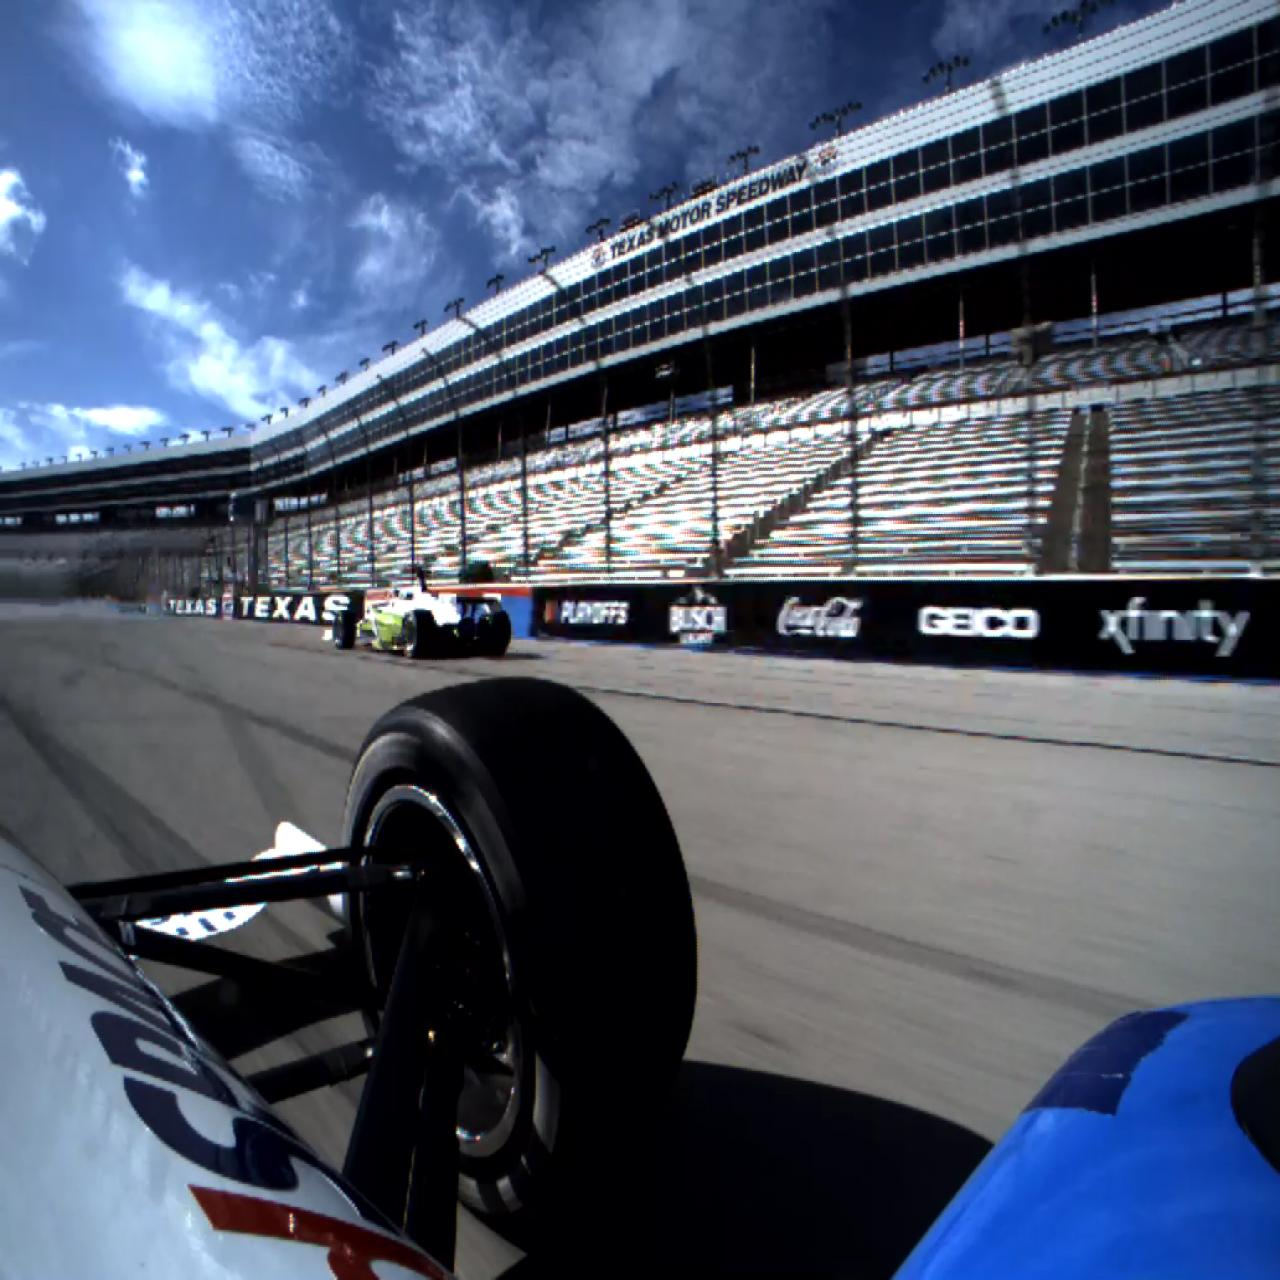AV: (321, 566, 512, 661)
Wheel: (339, 676, 699, 1226), (402, 607, 435, 661), (486, 611, 512, 658), (333, 611, 355, 652)
